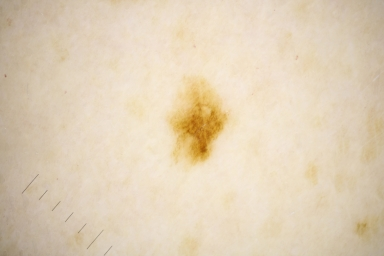nevus: (173, 95, 229, 162)
